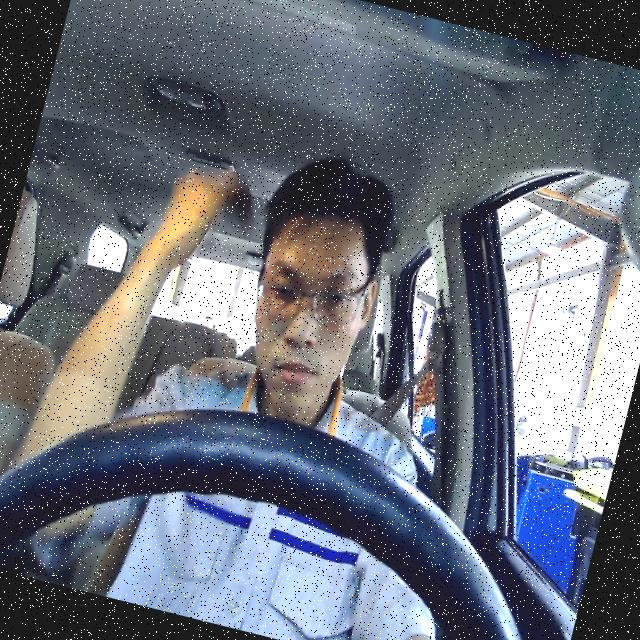focused: (228, 201, 392, 427)
